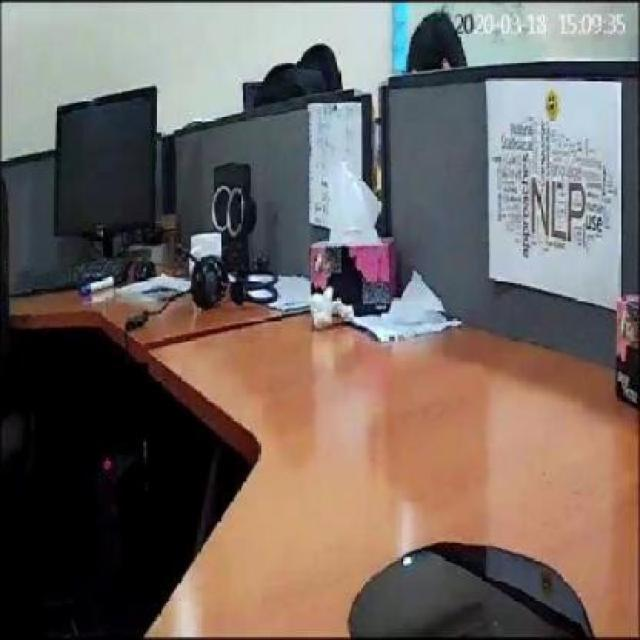spillage: (346, 542, 598, 640)
